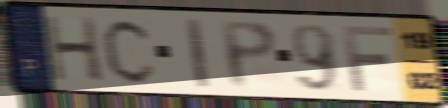9: (290, 21, 340, 93)
C: (100, 16, 159, 86)
F: (340, 23, 396, 93)
H: (42, 13, 107, 84)
I: (183, 16, 213, 91)
P: (217, 19, 280, 91)
